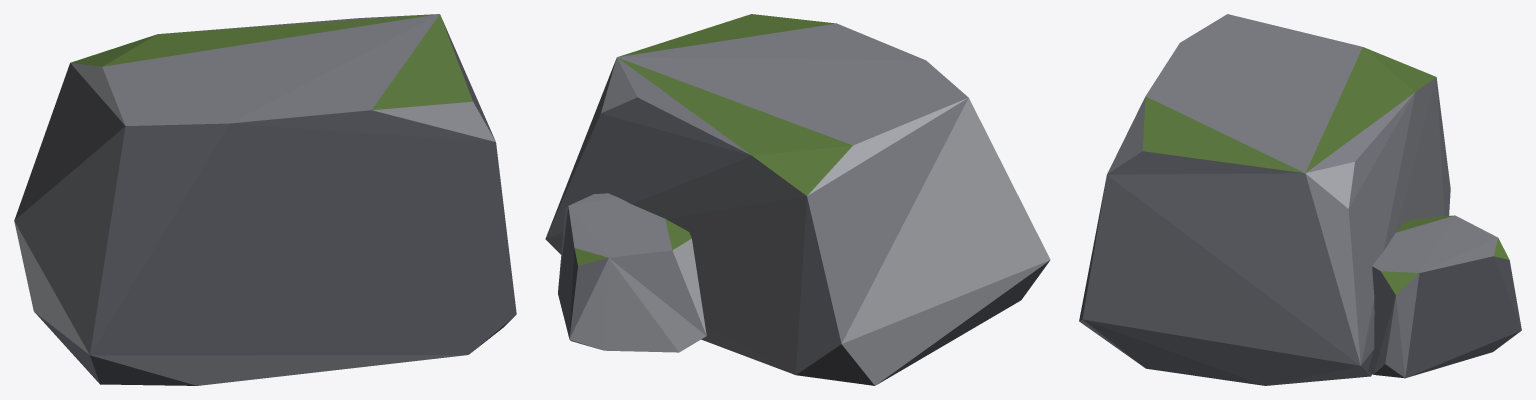
File: rock_large_b.fbx
The picture shows the model from 3 angles, left to right: view 1: azimuth 30°, elevation 25°; view 2: azimuth 150°, elevation 25°; view 3: azimuth 270°, elevation 25°; orthographic projection. The views are drawn at different scales.
Parts seen in each view (by area): view 1: rock_large_b; view 2: rock_large_b; view 3: rock_large_b.
Part boxes in pixels (x1,y1,x2,y2): rock_large_b: (14,14,516,385); rock_large_b: (545,14,1050,385); rock_large_b: (1079,14,1521,385).
Bounding box in the file's own units: 3.44 × 1.83 × 3.2.
